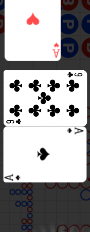4C: (6, 117, 23, 125)
AC: (5, 172, 22, 181)
AH: (52, 40, 61, 58)
